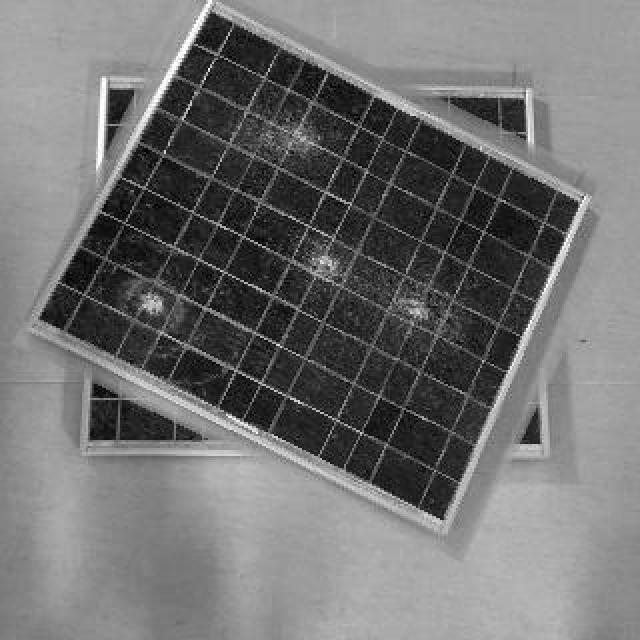Physical-damage: (113, 259, 194, 347), (255, 100, 339, 176), (289, 230, 362, 302), (390, 271, 448, 348)
